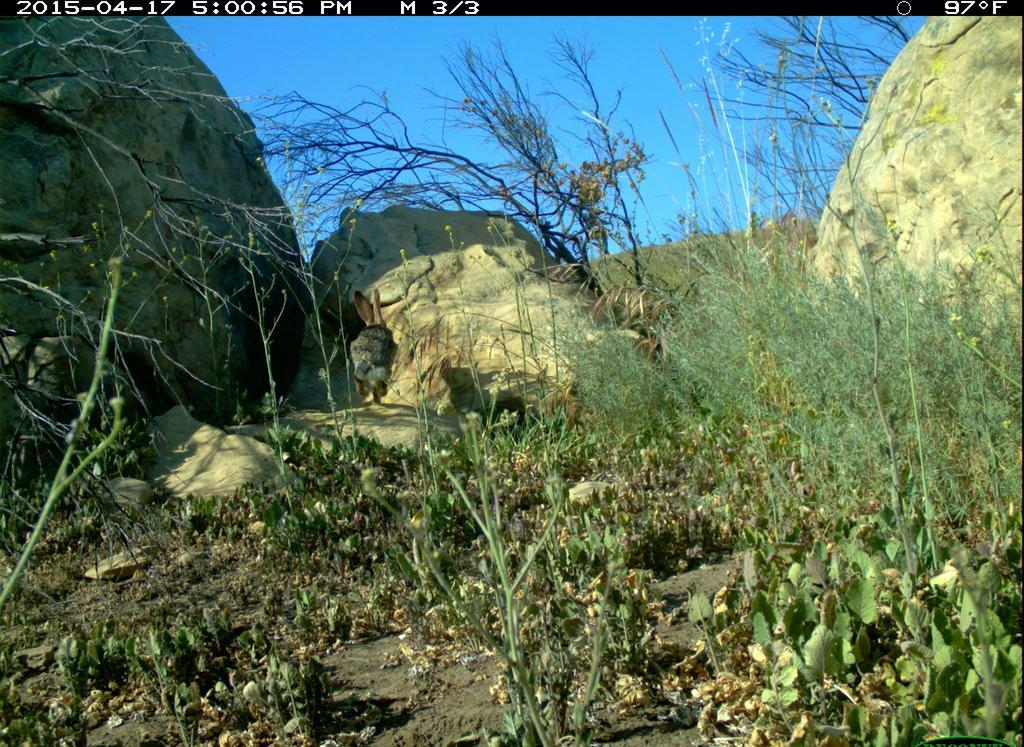rabbit: (340, 281, 406, 408)
